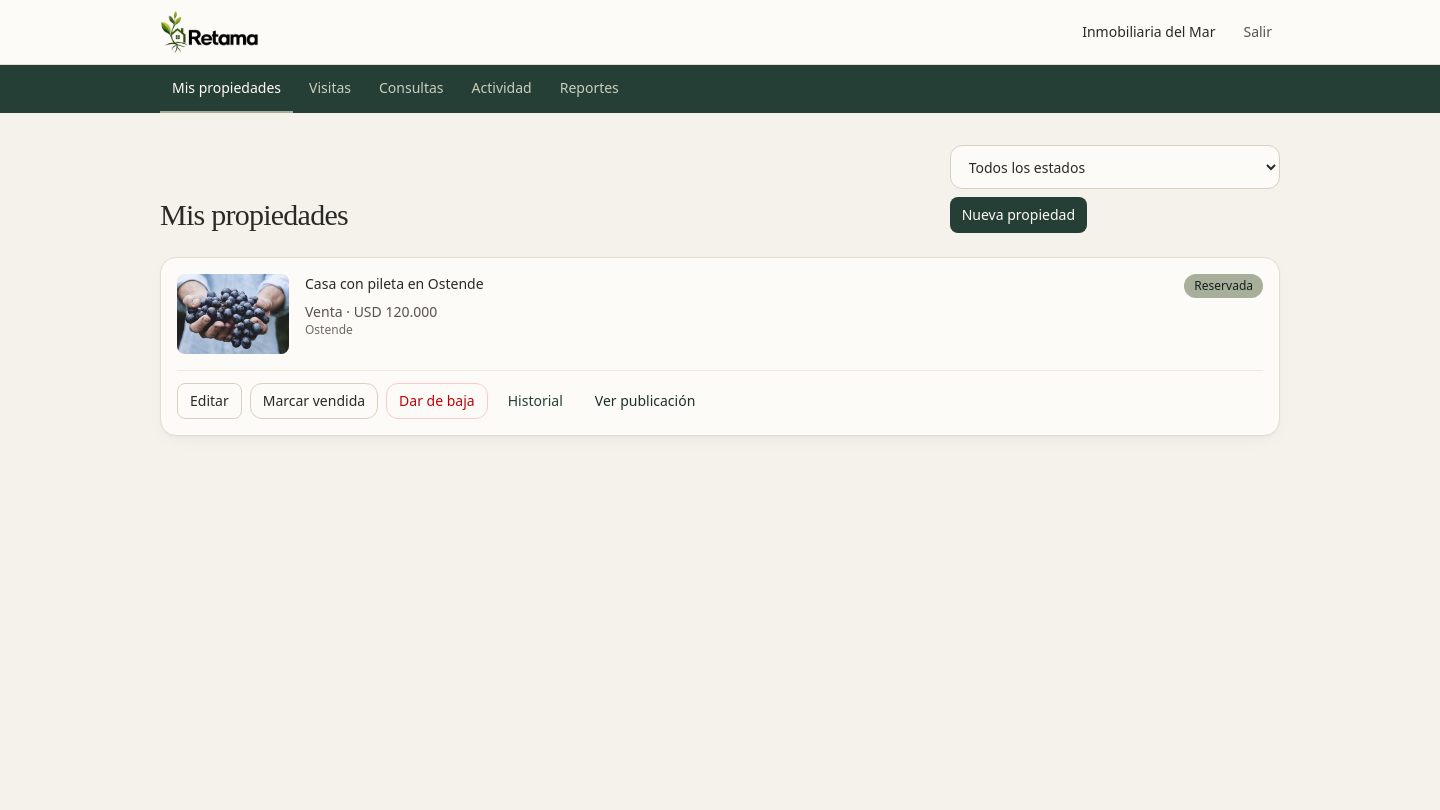
it: ciclo de vida de la propiedad › marcar vendida pide confirmacion y, si el back la rechaza, el error queda en el dialogo
Click the button "Marcar vendida": (314, 401) [250, 383, 378, 419]
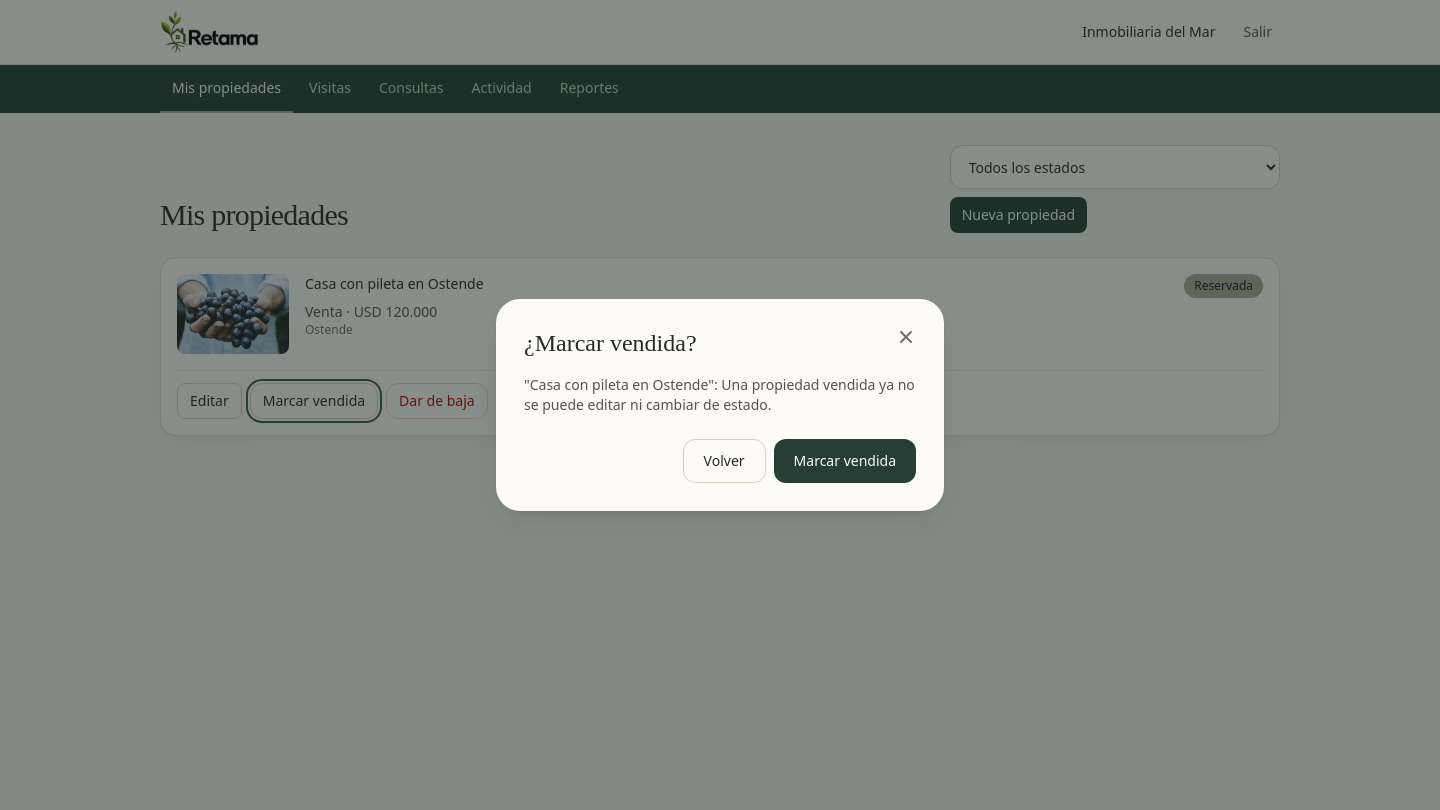
Click the button "Marcar vendida": (845, 461) [774, 439, 916, 483]
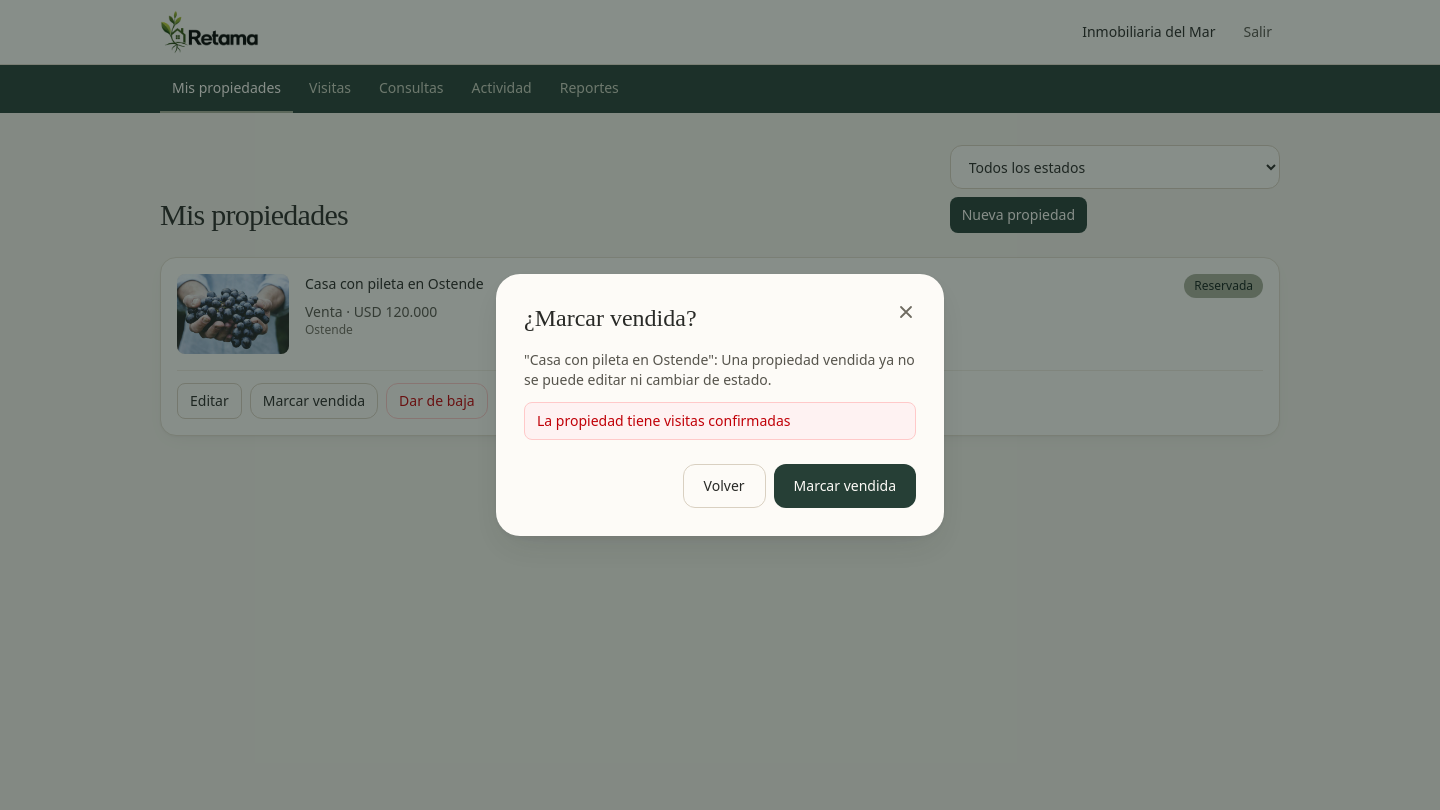
Expected: the text "Reservada" is shown, [1184, 274, 1263, 298]
Now the message reads "La propiedad tiene visitas confirmadas", box [537, 411, 790, 430]
